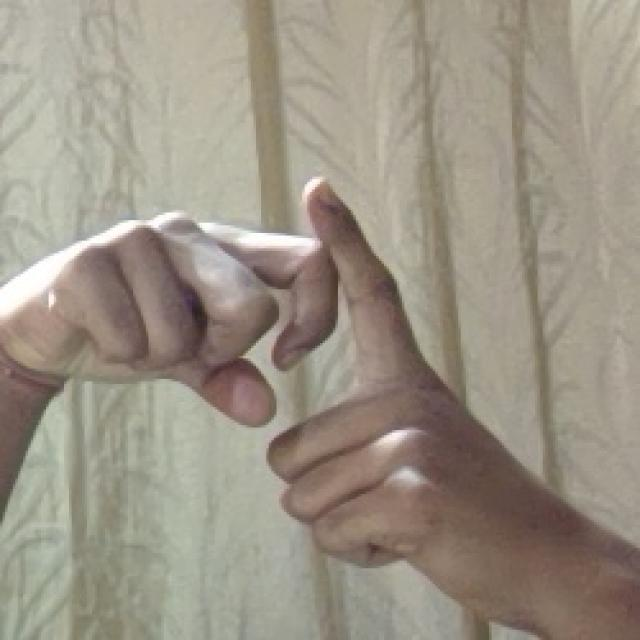Alphabet-K: (19, 160, 568, 620)
